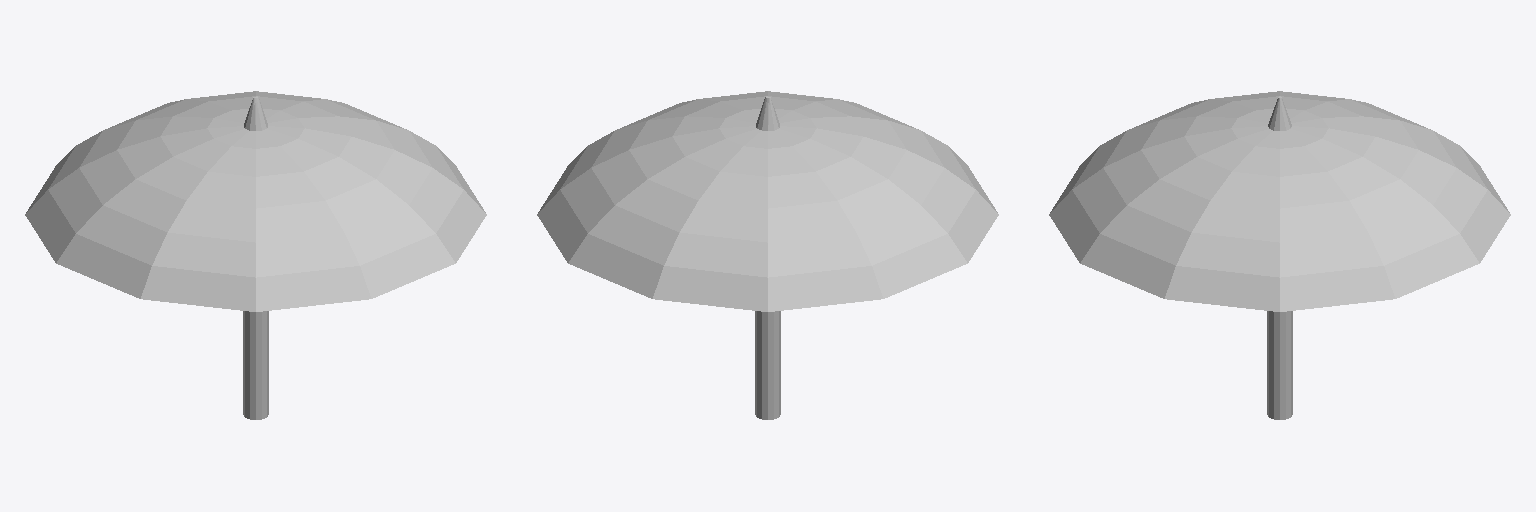
File: sombrinha.obj
The picture shows the model from 3 angles: view 1: azimuth 30°, elevation 25°; view 2: azimuth 150°, elevation 25°; view 3: azimuth 270°, elevation 25°; orthographic projection.
Parts seen in each view (by area): view 1: Sphere; view 2: Sphere; view 3: Sphere.
Boxes of the visible parts, <box> form: Sphere: <box>25,91,486,419</box>; Sphere: <box>537,91,998,419</box>; Sphere: <box>1049,91,1510,419</box>.
Size of the model in its own units: 1.19 by 0.9036 by 1.19.